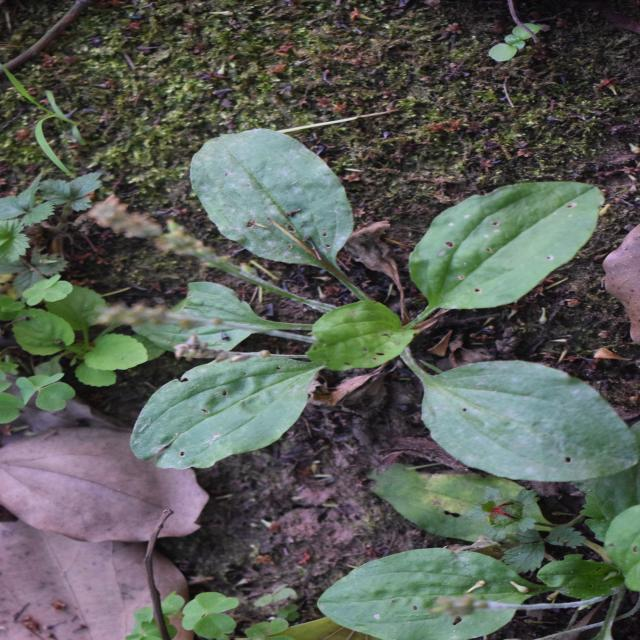plantain: (160, 129, 508, 592)
